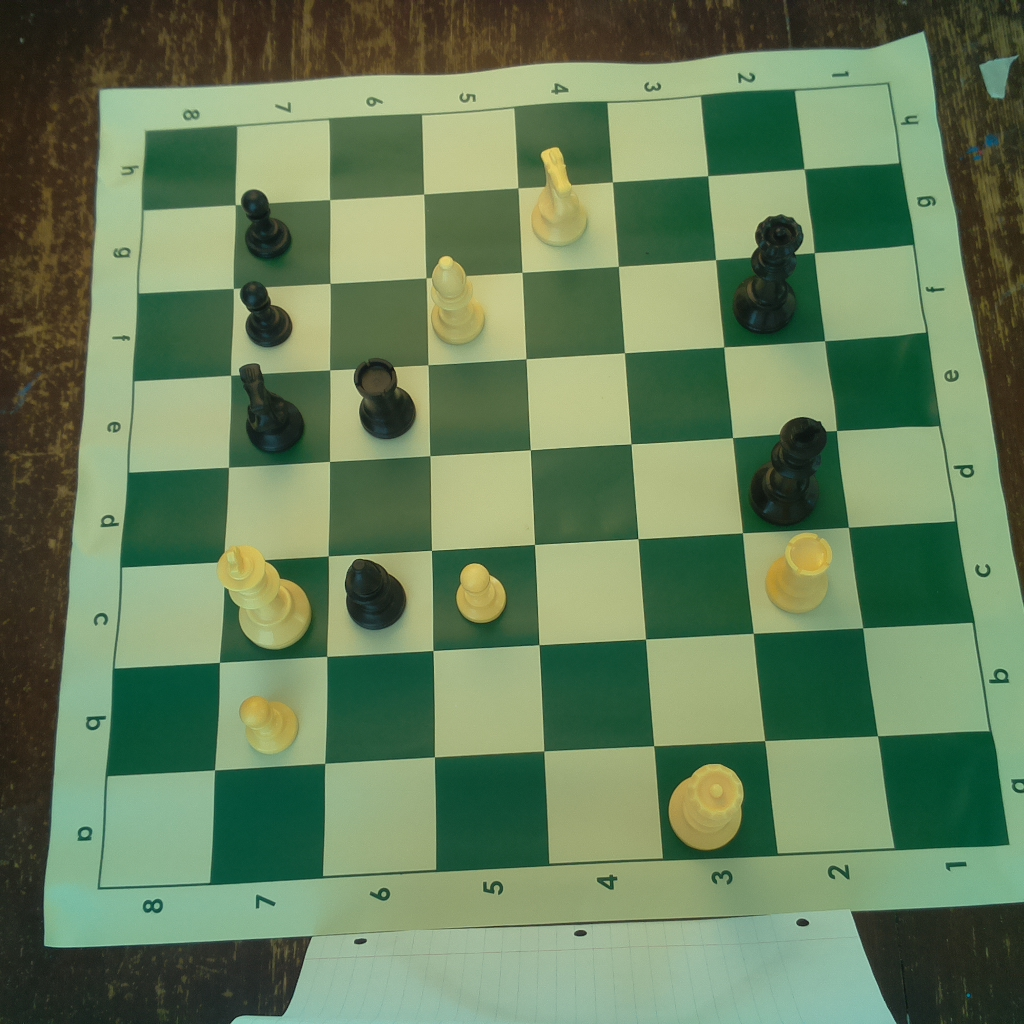black_bishop: (342, 557, 412, 631)
black_king: (750, 412, 831, 527)
black_knight: (233, 361, 310, 452)
black_pawn: (238, 183, 294, 260), (237, 279, 296, 347)
black_queen: (732, 210, 802, 338)
black_rook: (351, 354, 416, 440)
file_a: (96, 731, 1010, 892)
file_b: (107, 619, 993, 779)
file_c: (115, 521, 976, 671)
file_d: (121, 426, 960, 571)
file_e: (127, 330, 944, 474)
file_f: (133, 243, 931, 383)
file_g: (137, 162, 919, 296)
file_h: (140, 82, 902, 213)
outline: (98, 82, 1011, 893)
rank_1: (792, 82, 1010, 851)
rank_2: (699, 86, 899, 857)
rank_3: (606, 93, 780, 860)
rank_4: (514, 100, 667, 865)
rank_5: (421, 108, 551, 874)
rank_6: (319, 113, 444, 878)
rank_7: (210, 121, 333, 891)
rank_8: (97, 126, 238, 892)
white_bishop: (427, 251, 488, 348)
white_king: (214, 541, 316, 652)
white_knight: (527, 143, 593, 248)
white_pawn: (232, 692, 303, 756), (453, 560, 511, 630)
white_queen: (667, 758, 749, 852)
white_rook: (760, 530, 841, 618)
